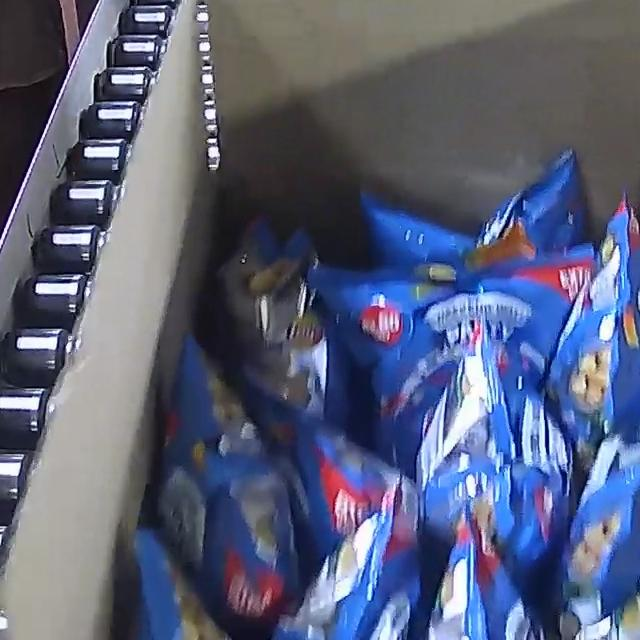paprika: (106, 146, 640, 640)
